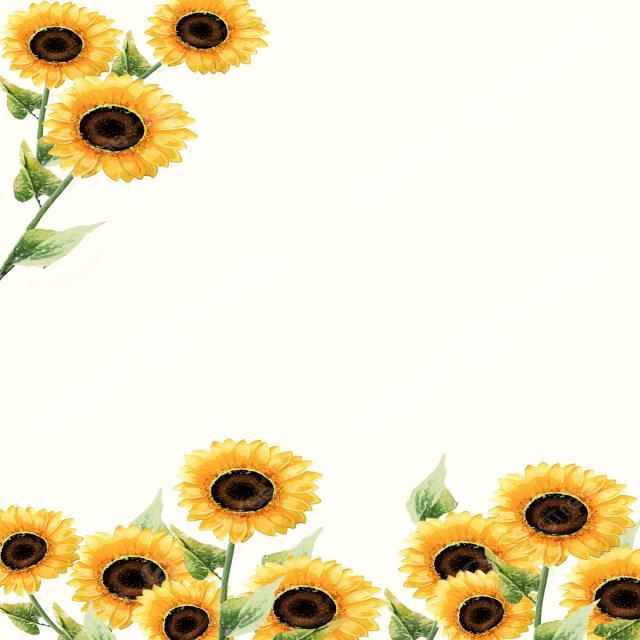sunflower: (41, 72, 197, 182), (486, 462, 636, 568), (172, 439, 322, 544), (66, 524, 193, 630), (397, 510, 540, 600), (238, 554, 386, 640), (0, 0, 124, 89), (143, 0, 269, 75), (425, 568, 536, 640), (558, 546, 639, 640), (0, 505, 82, 596), (131, 578, 233, 640)
